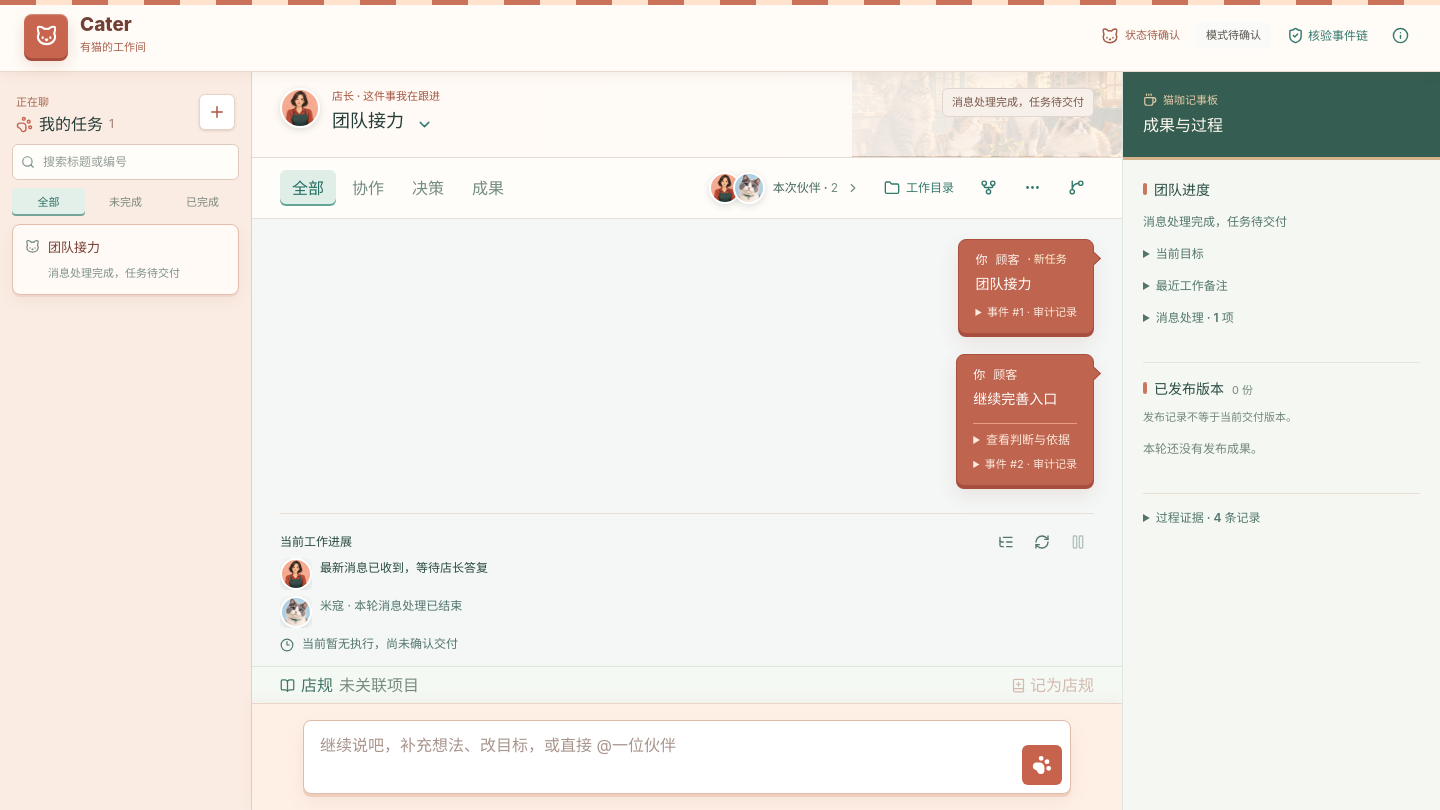
it: 相同事件版本的权威摘要刷新保留真实团队处理状态和草稿，不按消息数量暗示完成
Expected: the element "团队进度" is shown, [1143,180,1287,324]
Type "继续核对交付的草稿" into the text box named "向团队发送消息".
click(663, 757); type("继续核对交付的草稿")  # box [312,729,1014,785]
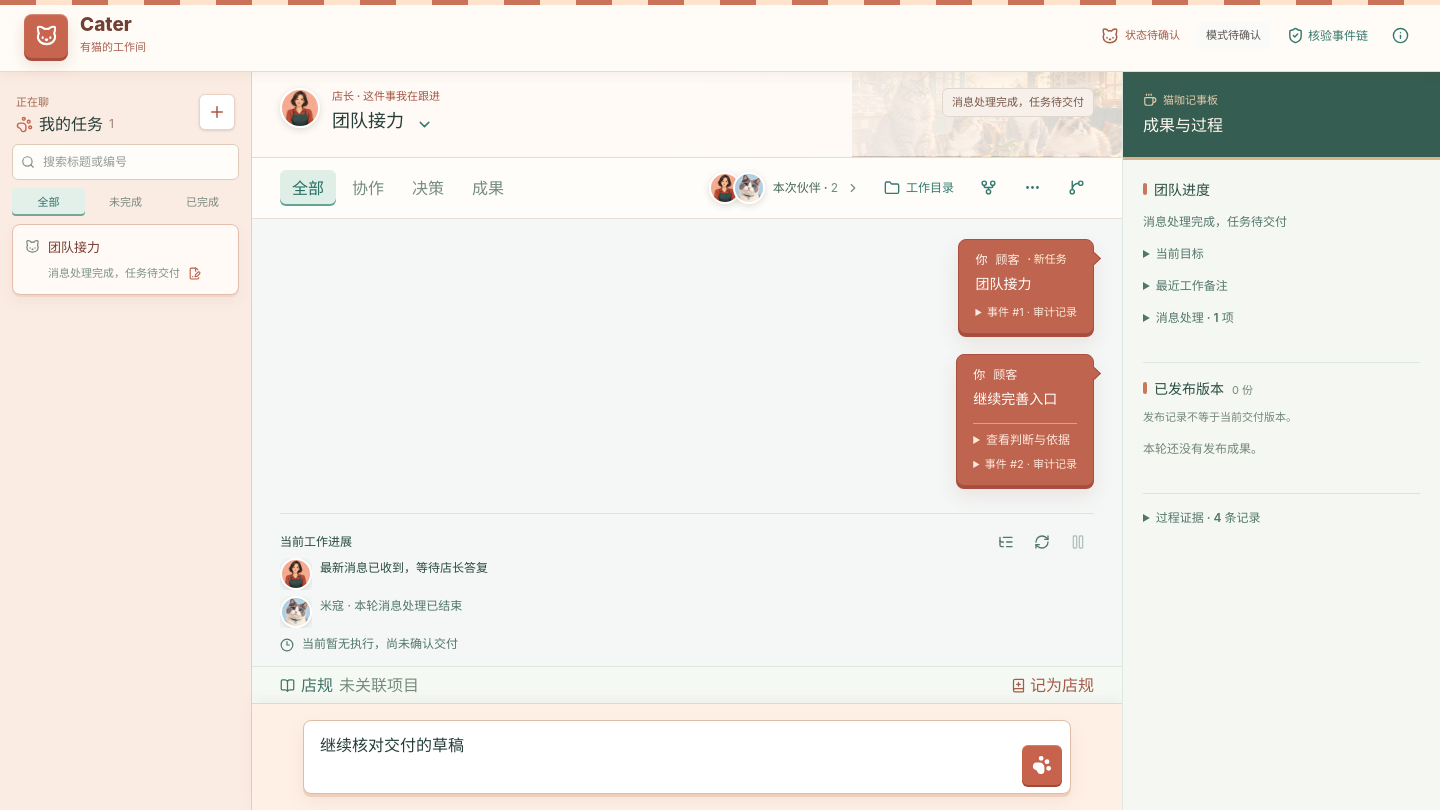
Expected: the text "继续完善入口" is shown, [973,390,1057,406]
Expected: the picture named "有未发送内容" is shown, [188,267,201,280]
